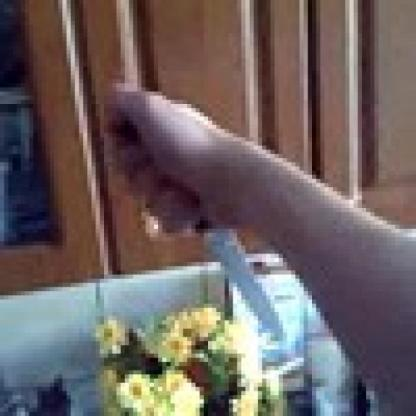Knife: (116, 117, 283, 341)
